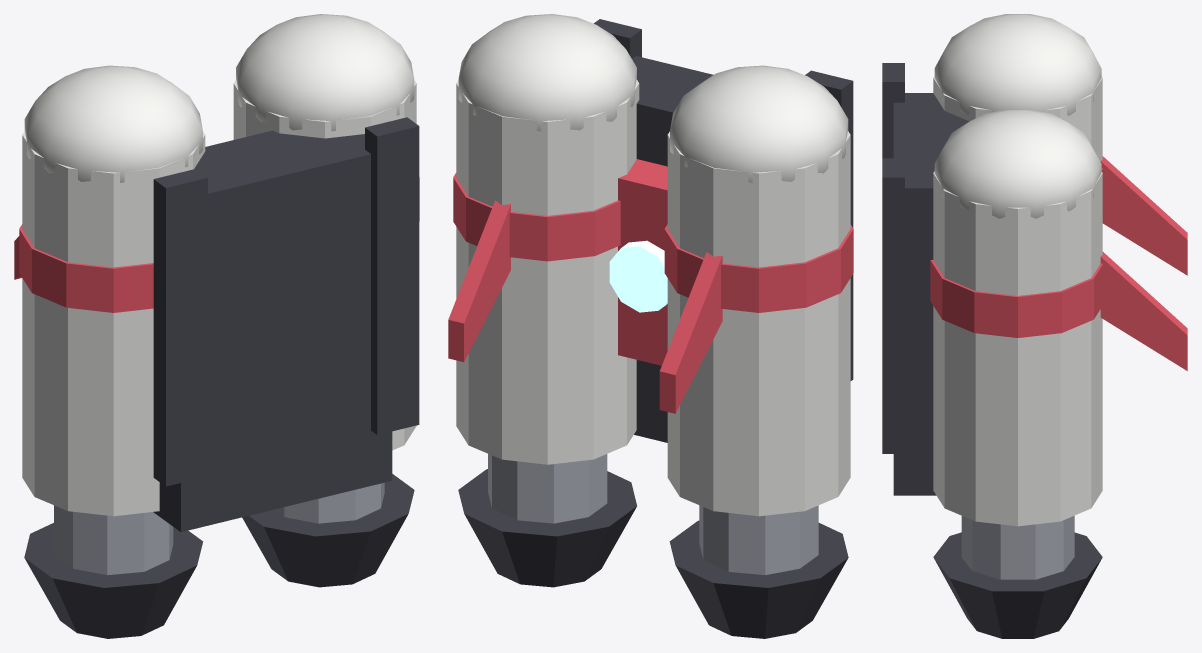
The model's file is HeroJetpack.fbx.
3 views of the same model, side by side, from view 1: azimuth 30°, elevation 25°; view 2: azimuth 150°, elevation 25°; view 3: azimuth 270°, elevation 25° (orthographic). The views are drawn at different scales.
Parts seen in each view (by area): view 1: HeroJetpack; view 2: HeroJetpack; view 3: HeroJetpack.
Part boxes in pixels (bbox=[...]): HeroJetpack: bbox=[14, 14, 419, 638]; HeroJetpack: bbox=[448, 14, 853, 638]; HeroJetpack: bbox=[882, 14, 1187, 638].
Size of the model in its own units: 0.71 by 0.975 by 0.54.
